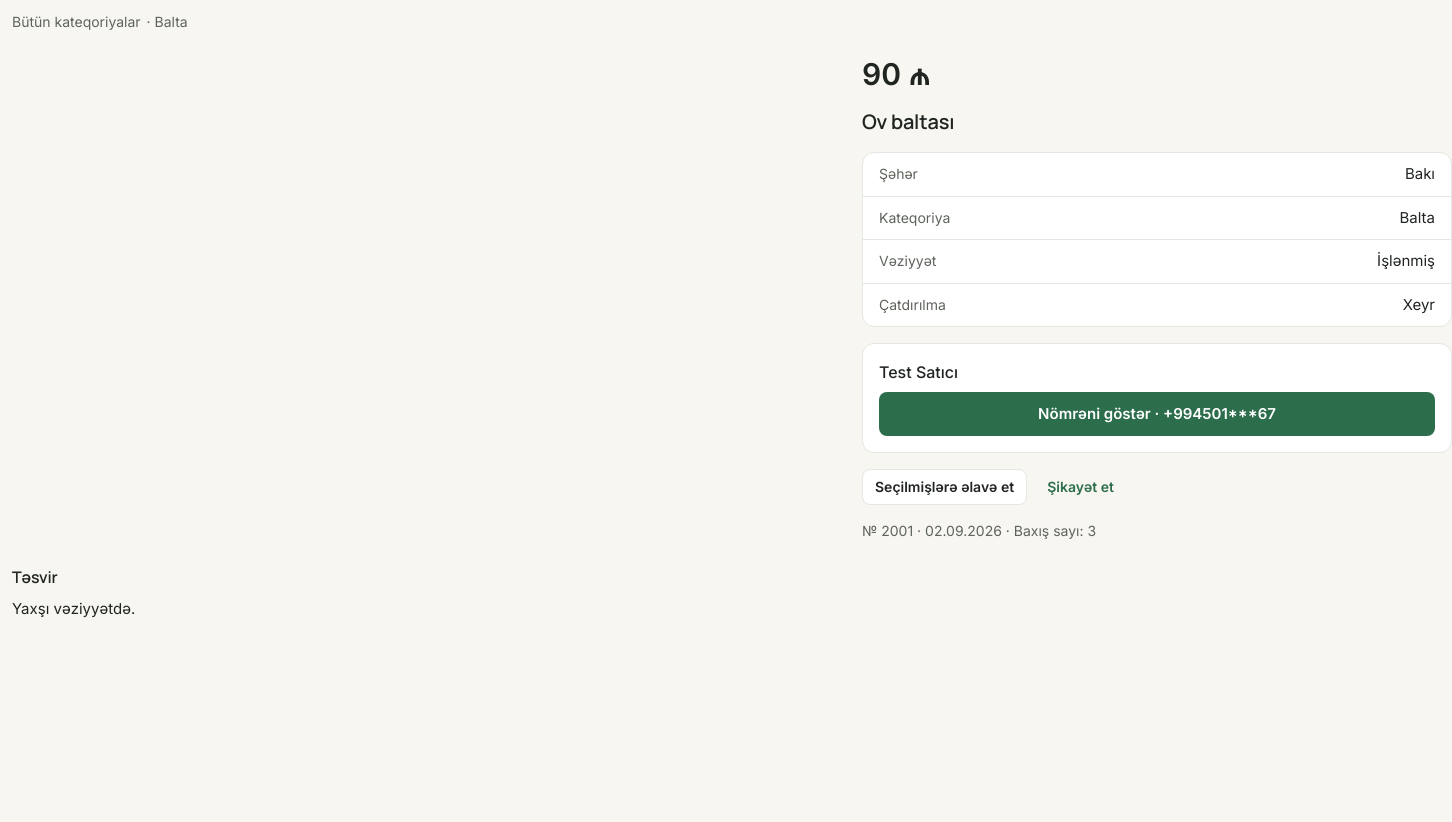
ListingDetailPage age gate › offers a report form that posts the chosen reason
This screenshot has width=1452, height=822.
Click the button "Şikayət et" at (1080, 487), box top-left (1035, 469), bottom-right (1126, 505)
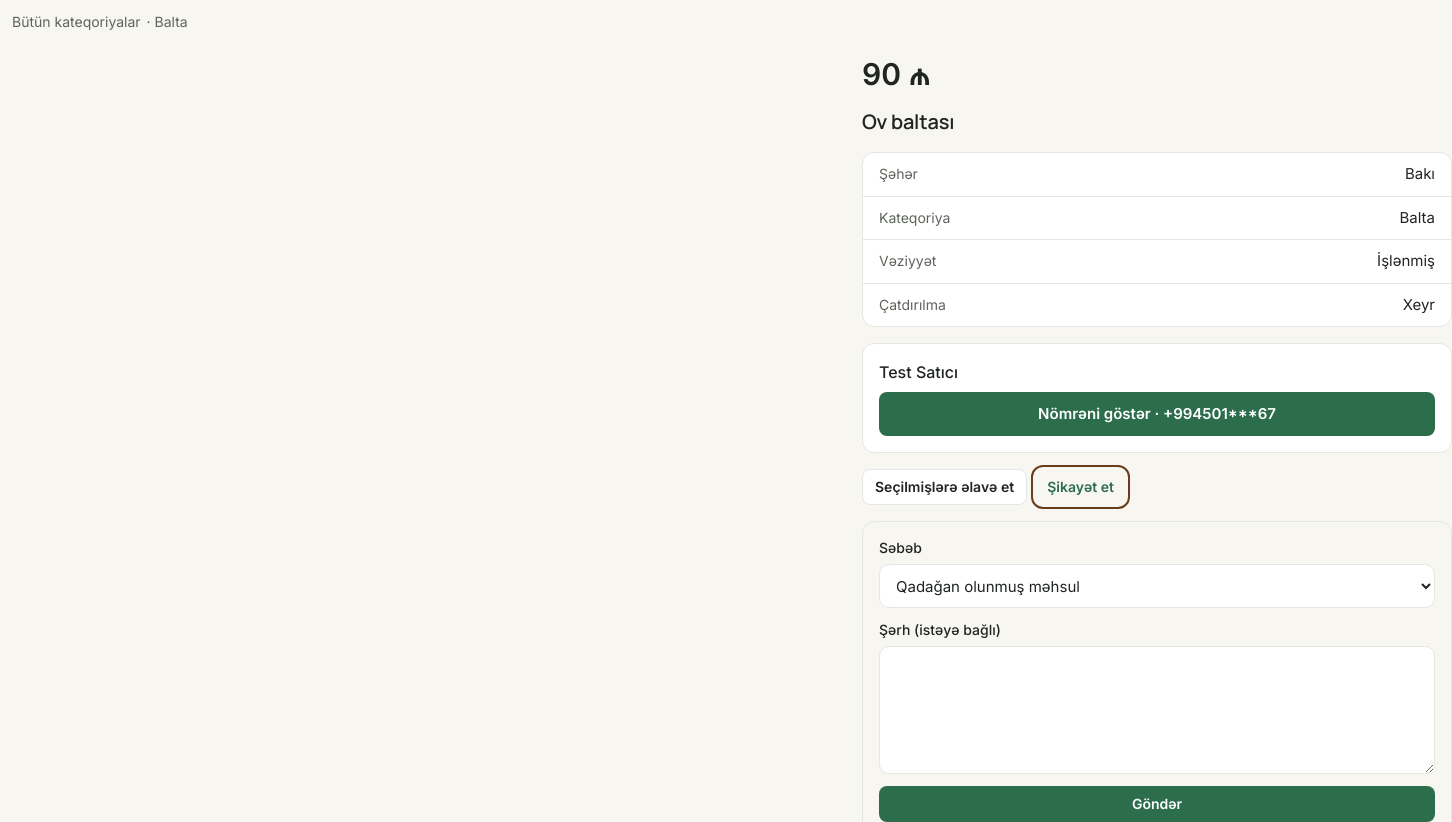
Select "Fırıldaqçılıq" in the dropdown labelled "Səbəb" at (1157, 586), box top-left (879, 564), bottom-right (1435, 608)
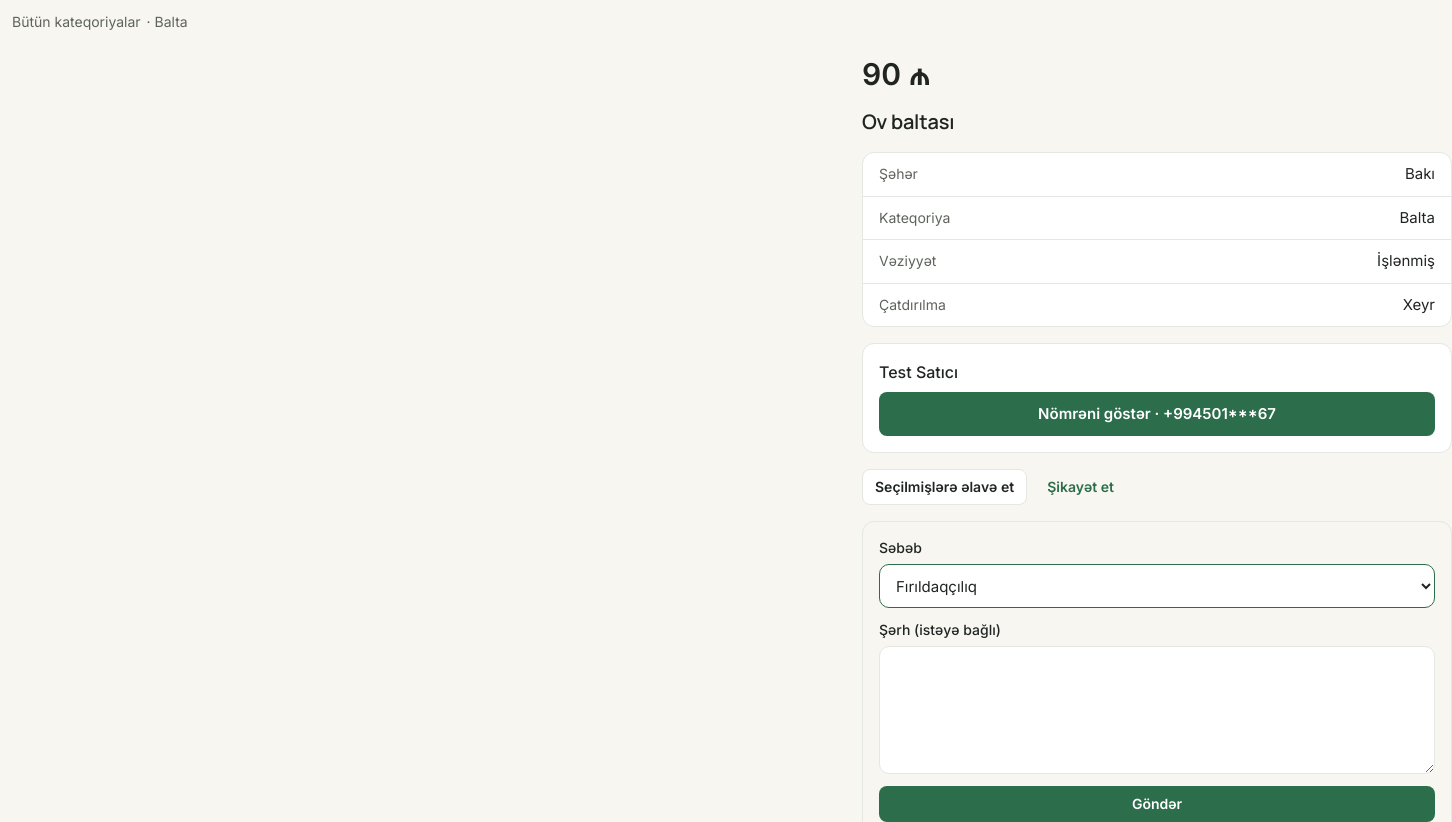
Click the button "Göndər" at (1157, 804), box top-left (879, 786), bottom-right (1435, 821)
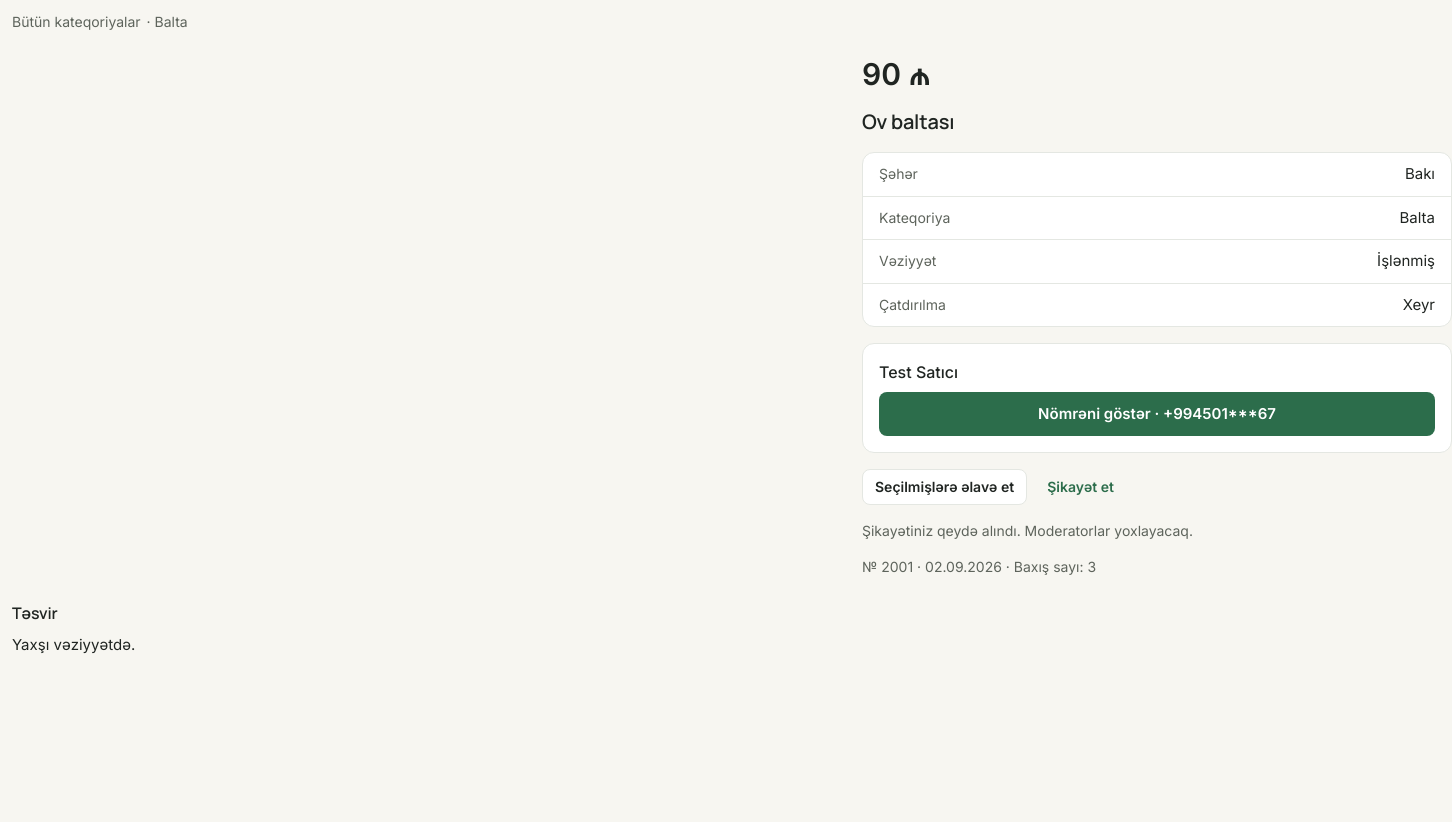
Expected: the text "Şikayətiniz qeydə alındı. Moderatorlar yoxlayacaq." is shown, top-left (862, 522), bottom-right (1193, 539)
